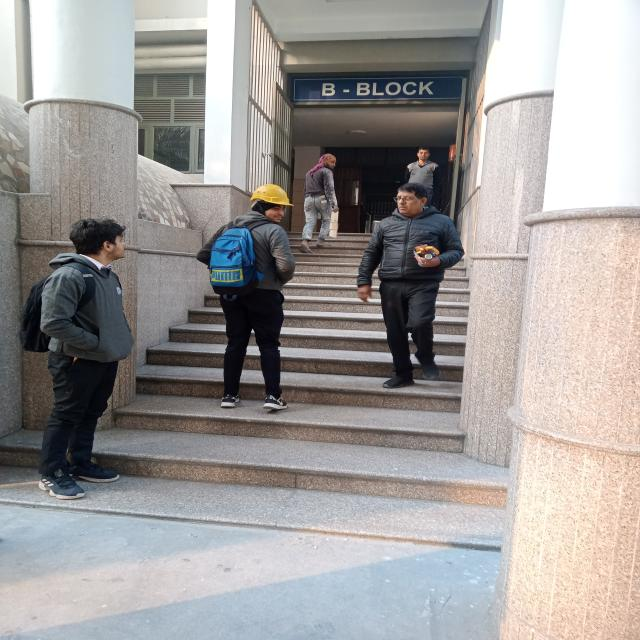no jacket: (197, 183, 305, 412)
unsafe: (18, 217, 137, 497), (356, 183, 464, 390), (302, 152, 341, 253)
